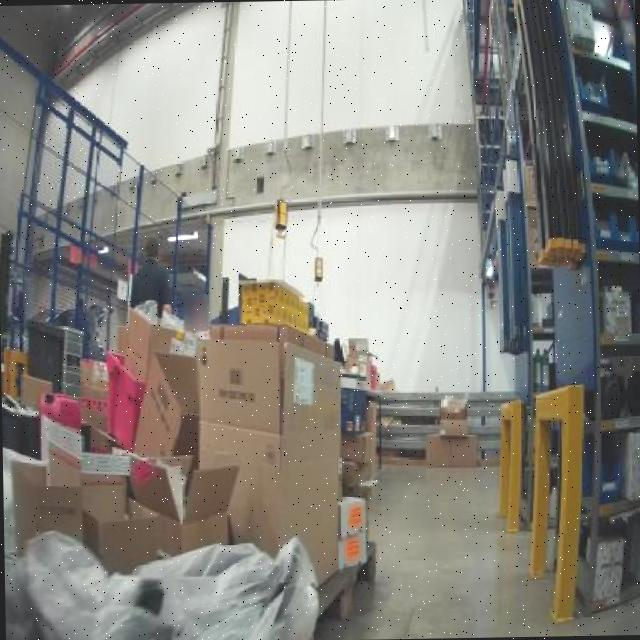pallet: (284, 532, 386, 638)
